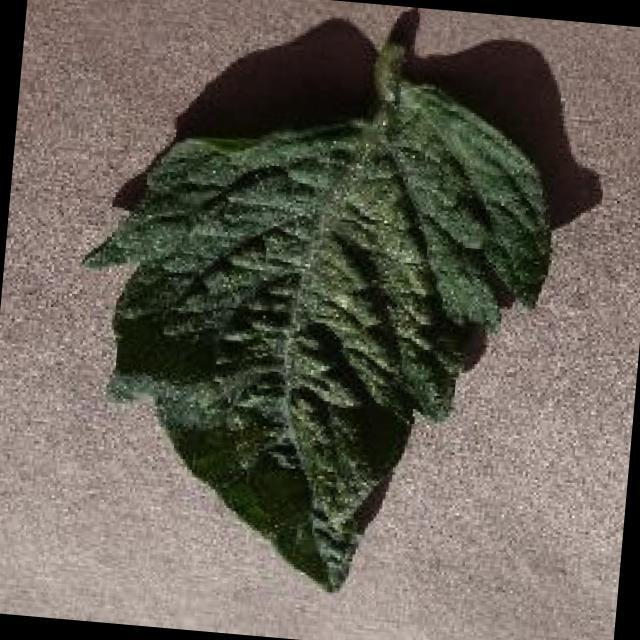Tomato spider mites leaf: (56, 44, 564, 612)
